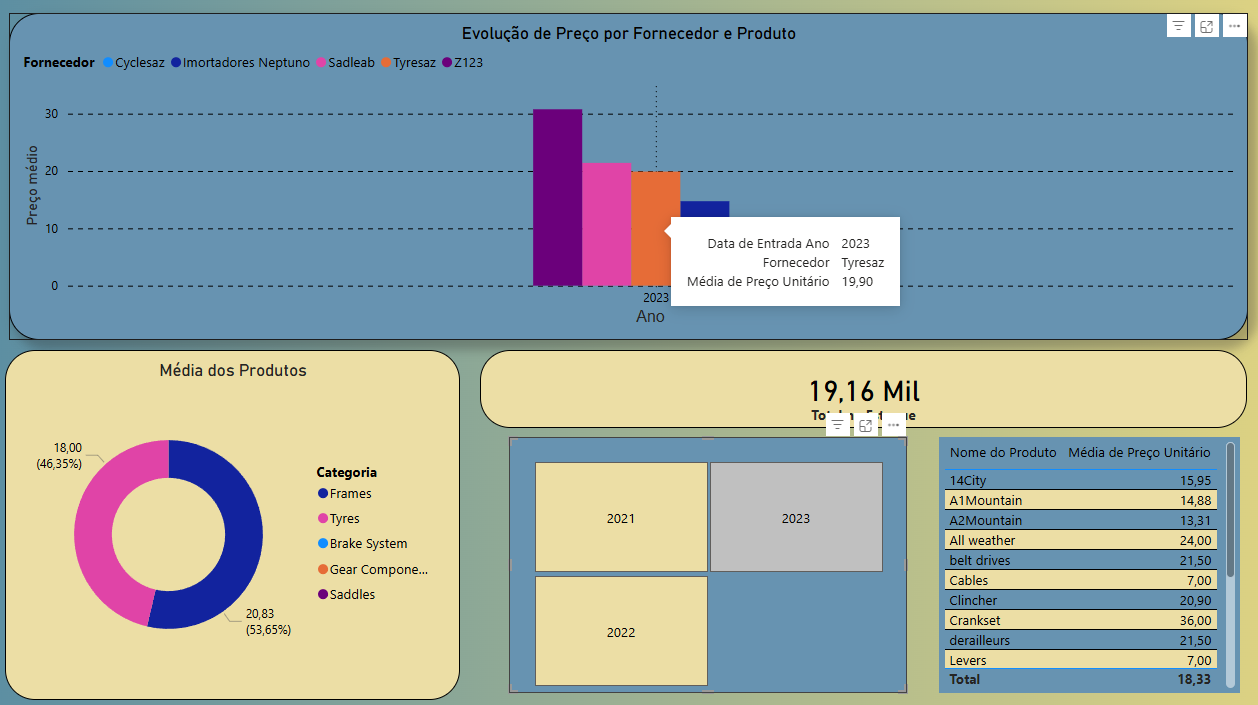

The page's visual inventory and layout, read from the dashboard file:
{"tool":"powerbi","page":{"name":"Página 1","canvas":[1280,720],"ordinal":0},"visuals":[{"type":"clusteredColumnChart","title":"Evolução de Preço por Fornecedor e Produto","fields":{"Category":["Products.Data de Entrada.Variation.Hierarquia de datas.Ano"],"Y":["Avg(Products.Preço Unitário)"],"Series":["Products.Fornecedor"]},"box":[20.4,26.3,1238.2,326.8],"z":0},{"type":"card","title":"fwfdqw","fields":{"Values":["Sum(Products.Unidades em Estoque)"]},"box":[491.2,362.8,767.4,77.8],"z":0,"group":"g1"},{"type":"donutChart","title":"Média dos Produtos","fields":{"Y":["Avg(Products.Unidades sob Pedido)"],"Category":["Products.Categoria"]},"box":[16,362.7,454.6,350.7],"z":1000},{"type":"group","id":"g1","title":"Grupo 1","box":[491.2,362.8,767.4,77.8],"z":2000},{"type":"textbox","box":[800.5,414.3,149.8,35],"z":3000},{"type":"tableEx","fields":{"Values":["Products.Nome do Produto","Avg(Products.Preço Unitário)"]},"box":[950.3,449.6,300.8,256.8],"z":4000},{"type":"slicer","fields":{"Values":["Products.Data de Entrada.Variation.Hierarquia de datas.Ano"]},"box":[519.6,449.6,398.7,256.8],"z":5000},{"type":"shape","box":[721.3,588.1,173.2,110],"z":6000}]}

Visuals, with their boxes in screenshot pixels (x1, y1, x2, y2), scaled from the page's 1280x720 canvas onto the 1258x705 screenshot:
"Evolução de Preço por Fornecedor e Produto" clusteredColumnChart: 20/26/1237/346
"fwfdqw" card: 483/355/1237/431
"Média dos Produtos" donutChart: 16/355/463/699
"Grupo 1" group: 483/355/1237/431
textbox: 787/406/934/440
tableEx - Products.Nome do Produto x Avg(Products.Preço Unitário): 934/440/1230/692
slicer - Products.Data de Entrada.Variation.Hierarquia de datas.Ano: 511/440/903/692
shape: 709/576/879/684
